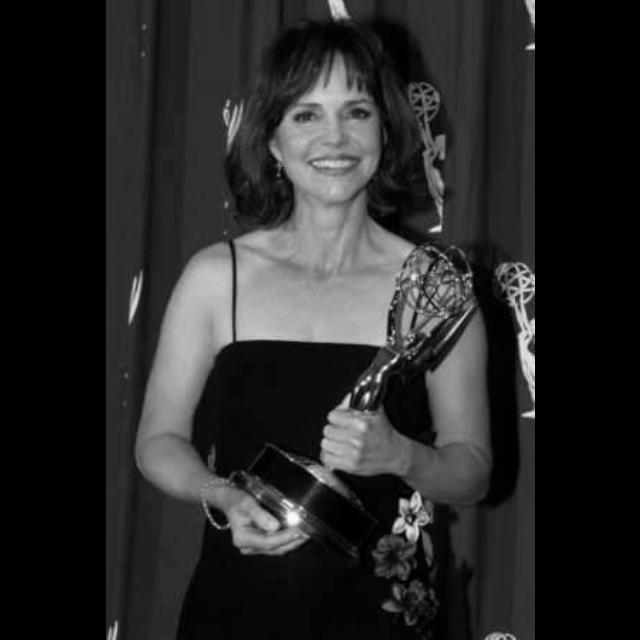face: (260, 52, 389, 213)
